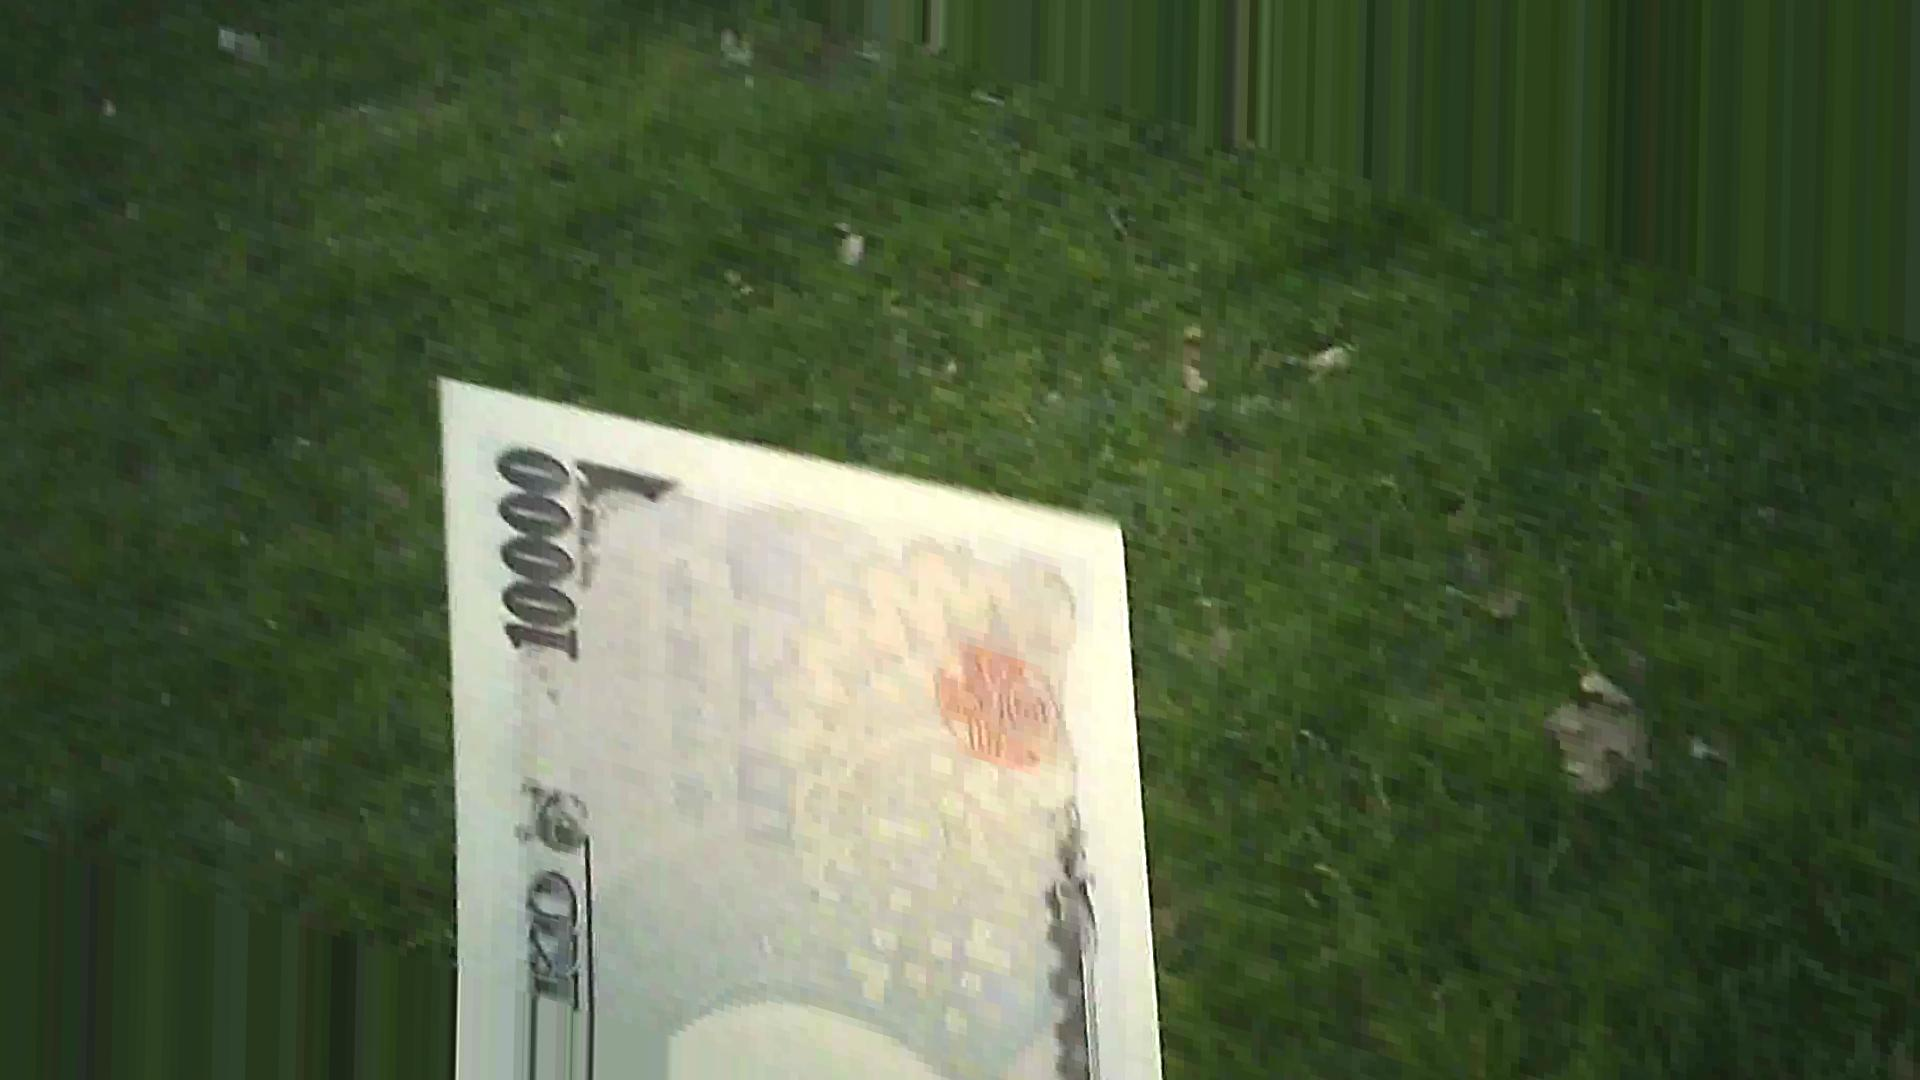10,000 Yen: (402, 363, 1203, 1079)
